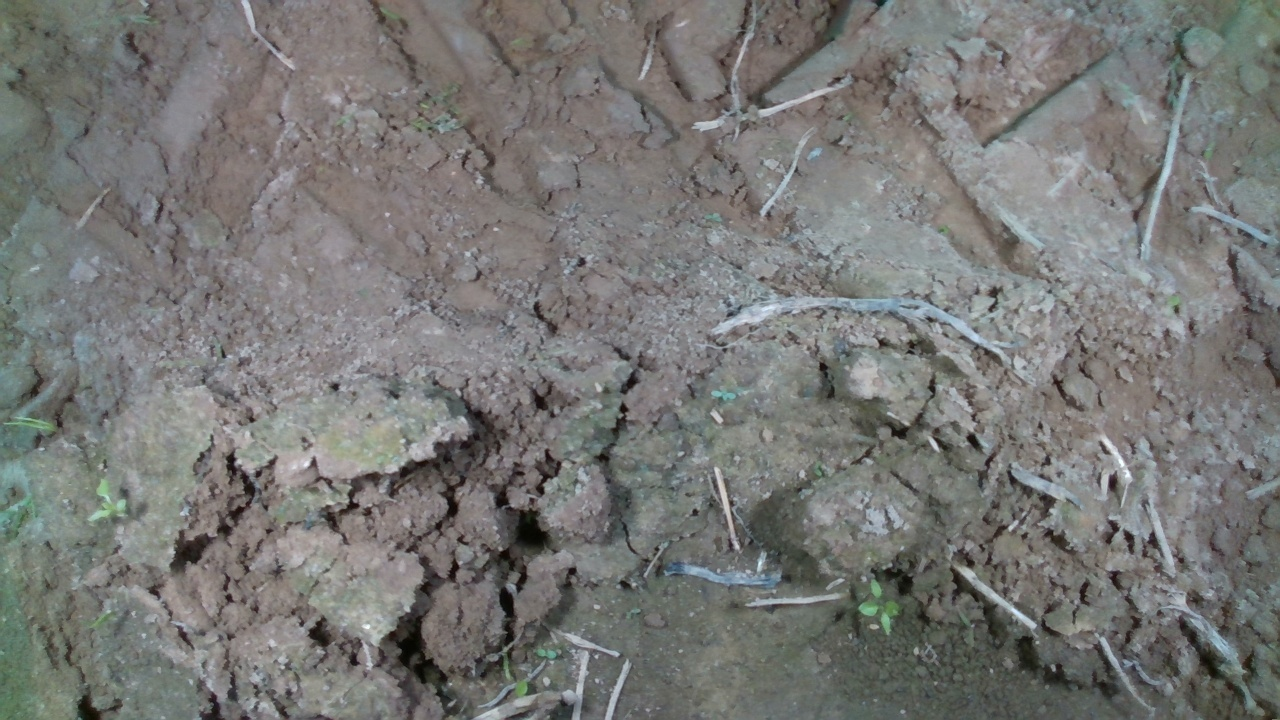weed: (856, 577, 903, 637), (534, 647, 558, 661)
